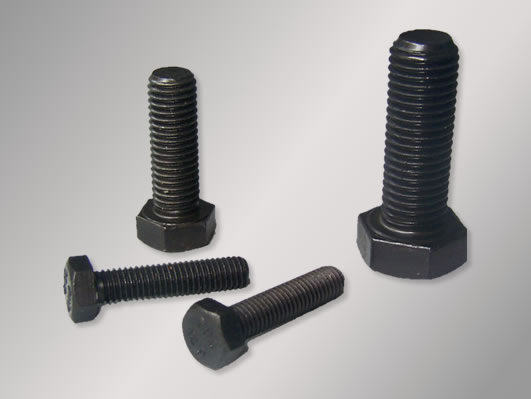screw: (353, 29, 469, 281), (182, 266, 344, 369), (136, 67, 216, 252), (63, 255, 251, 323)
